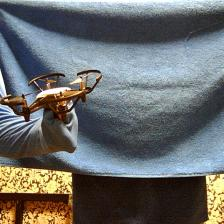drone: (1, 68, 102, 122)
